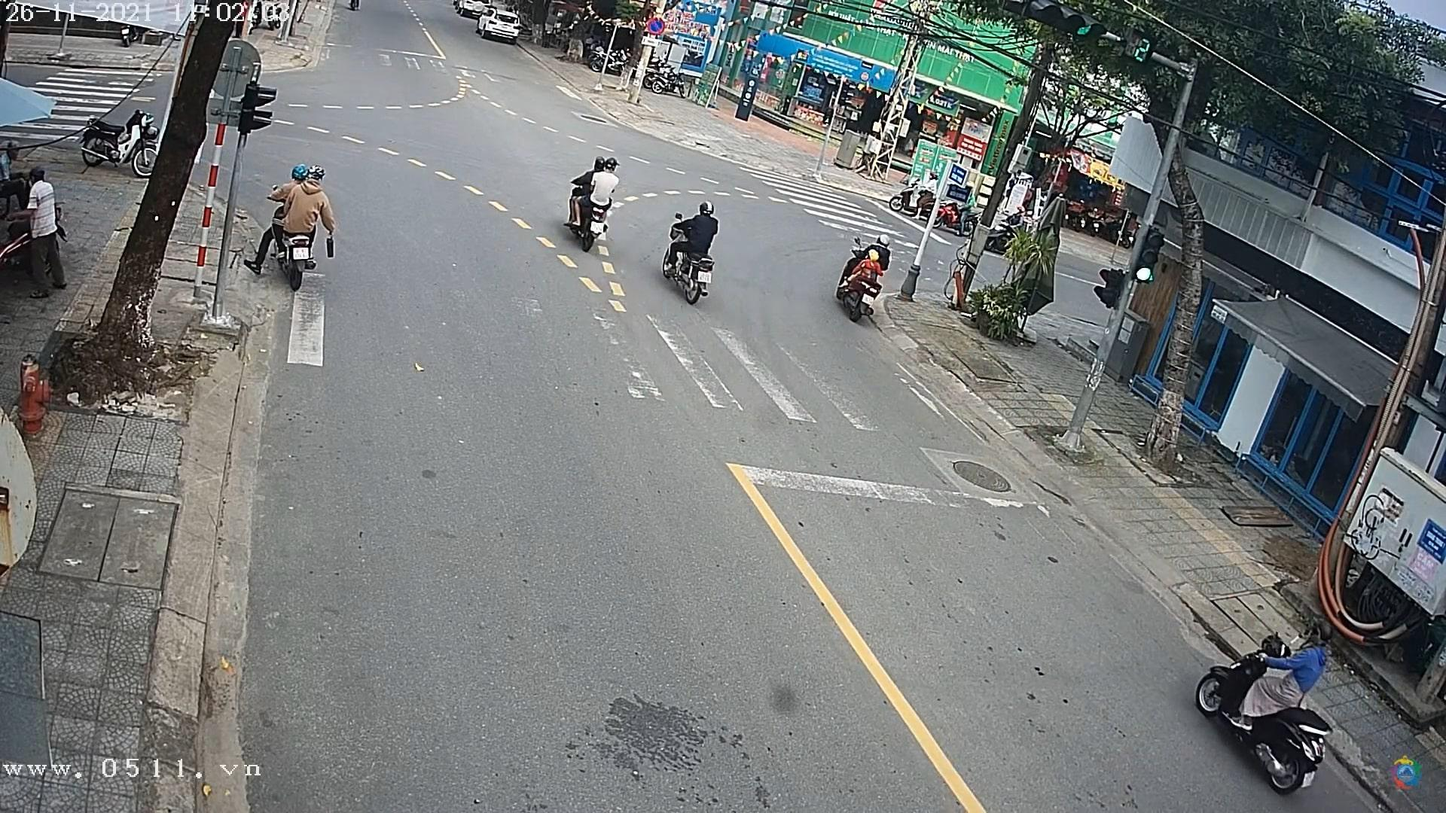car: (453, 2, 497, 21)
motorbike: (1194, 631, 1332, 793), (266, 202, 323, 297), (562, 186, 615, 250), (837, 254, 884, 324), (664, 244, 716, 305)
